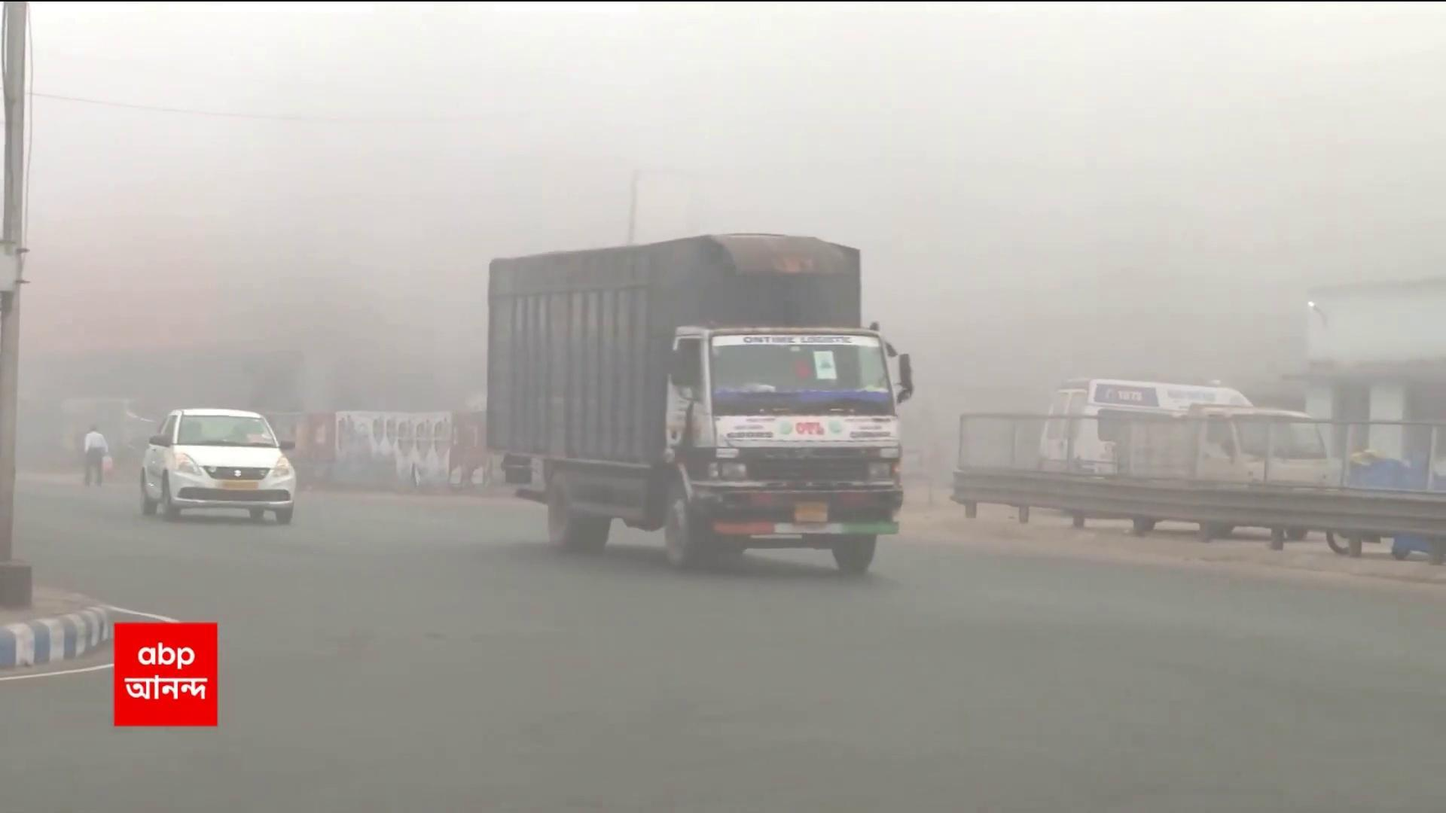Car: (138, 406, 299, 524)
Truck: (483, 228, 915, 574)
